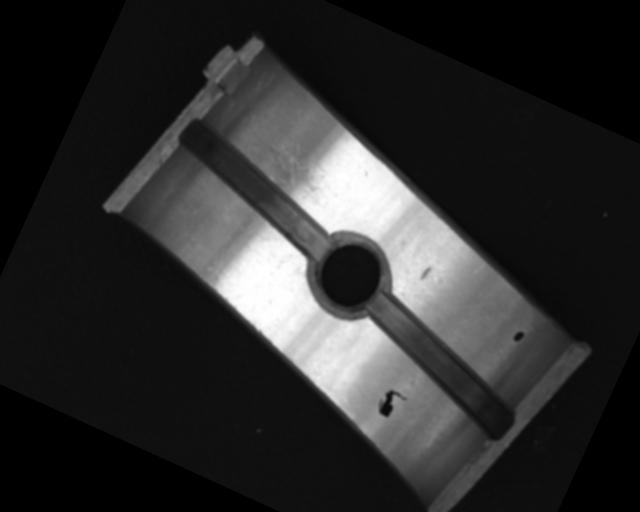blot: (373, 385, 408, 423), (511, 328, 526, 344)
bruise: (418, 264, 433, 283)
gap: (338, 288, 541, 444), (157, 117, 355, 264)
hole: (298, 223, 402, 327)
scratch: (219, 108, 339, 204)
